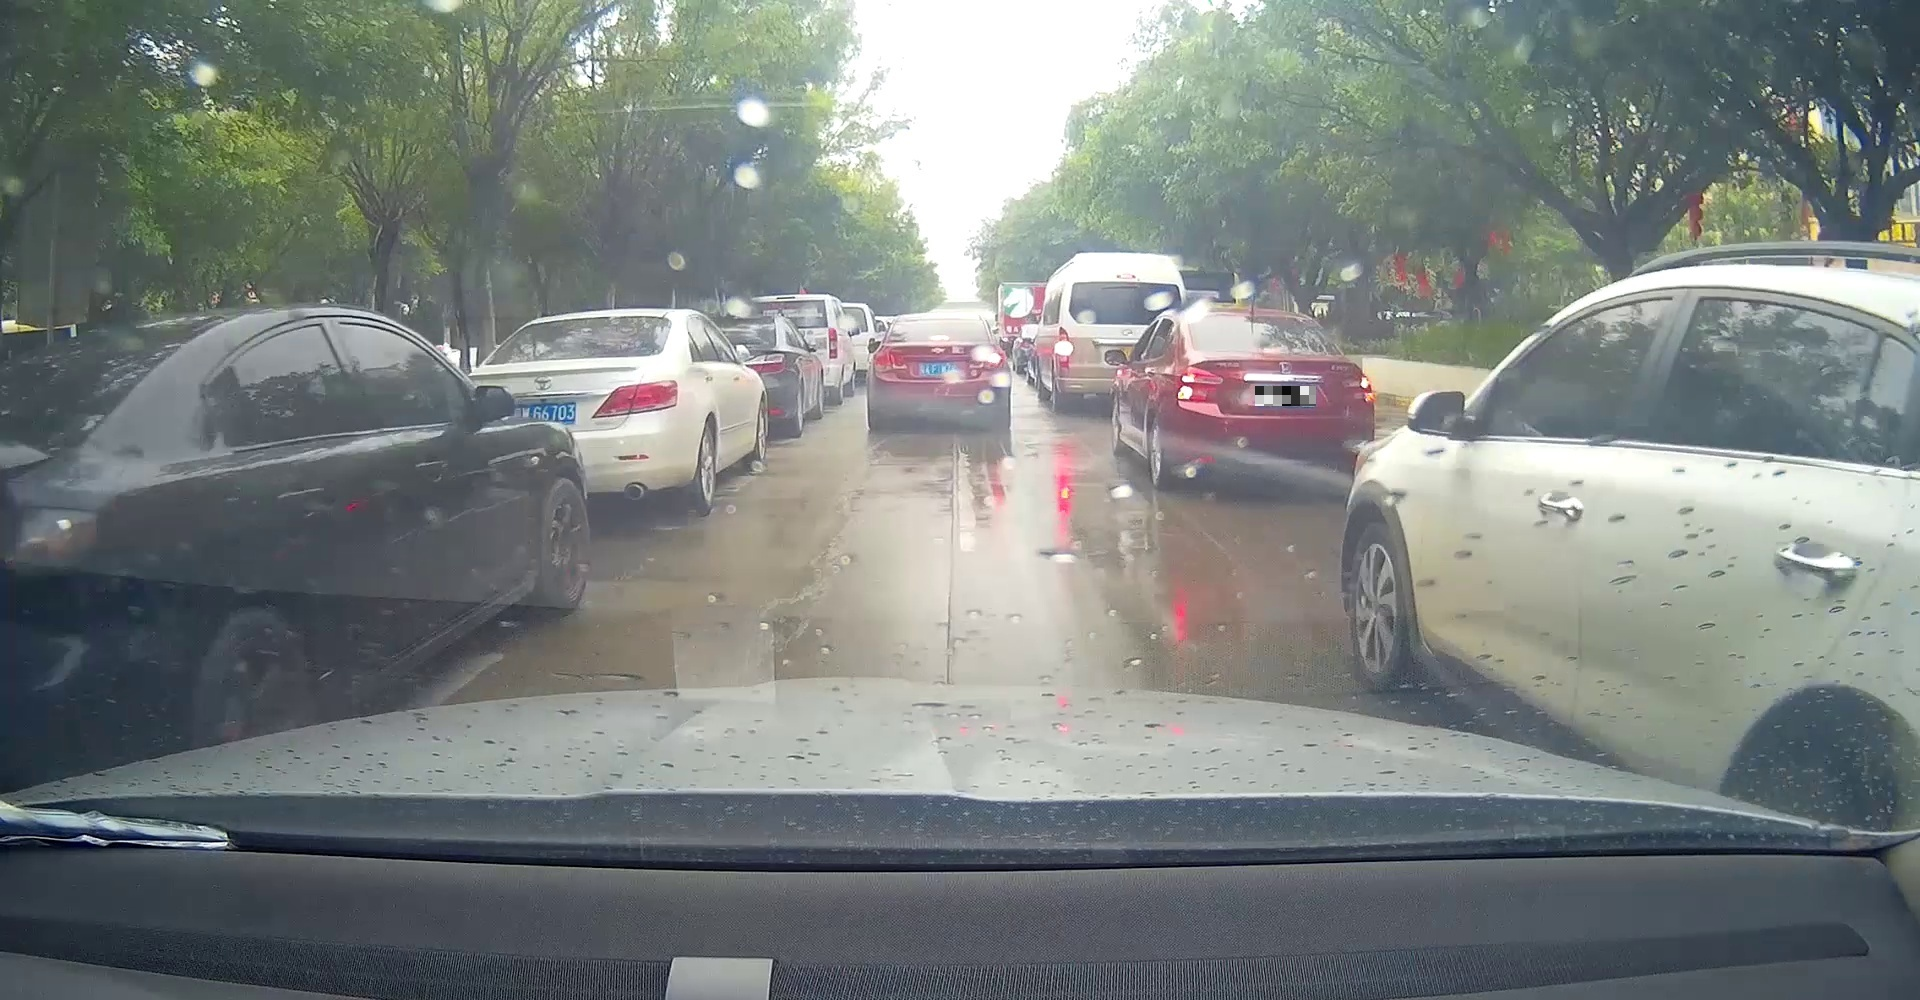L_light: (1176, 367, 1222, 401), (874, 352, 905, 371)
R_light: (1340, 374, 1374, 401), (970, 354, 1004, 371)
T_light: (1256, 345, 1290, 353), (928, 332, 950, 341)
day-brake: (1175, 306, 1375, 487)
day-right: (869, 312, 1013, 429)
plate_1: (1255, 386, 1316, 406)
